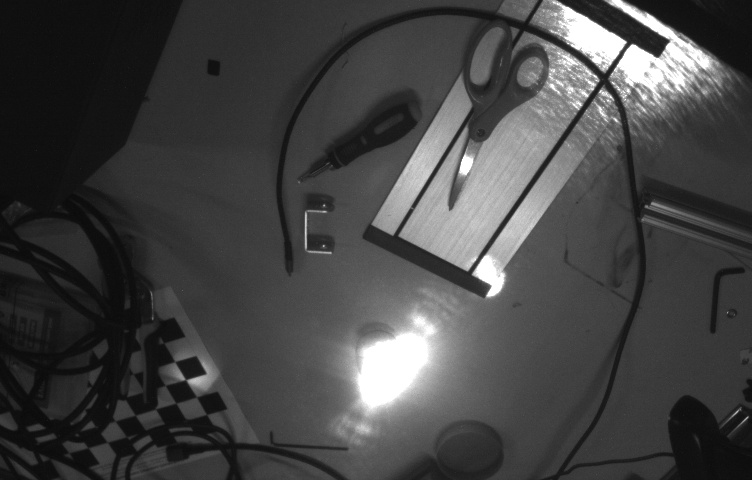Object toy football - Material foam - Color blue - Pdfname VT1ffZoLOnKv: (346, 326, 417, 402)
